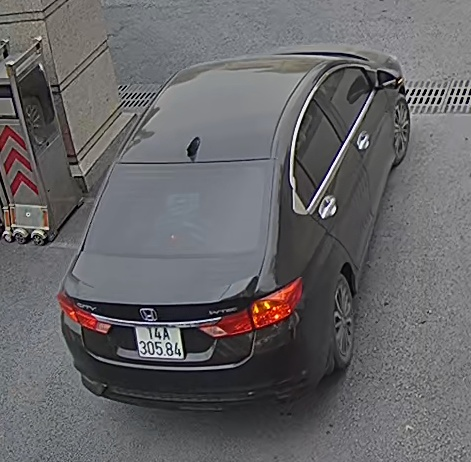vehicle plate: (130, 318, 186, 362)
